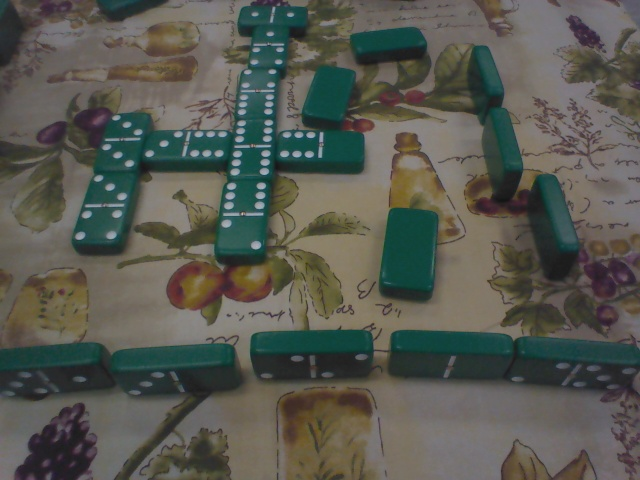A: (376, 204, 441, 305), (343, 23, 436, 69), (300, 61, 360, 132)
B: (71, 173, 139, 247), (216, 176, 270, 264), (274, 127, 374, 173), (95, 110, 154, 177), (225, 117, 280, 182), (144, 127, 231, 166), (228, 68, 284, 122), (245, 25, 294, 78), (235, 4, 317, 34)
D: (523, 177, 583, 282), (476, 109, 523, 206), (455, 47, 510, 115)
E: (511, 325, 640, 405), (385, 324, 515, 389), (245, 324, 378, 385), (110, 349, 248, 399), (1, 343, 111, 405)
